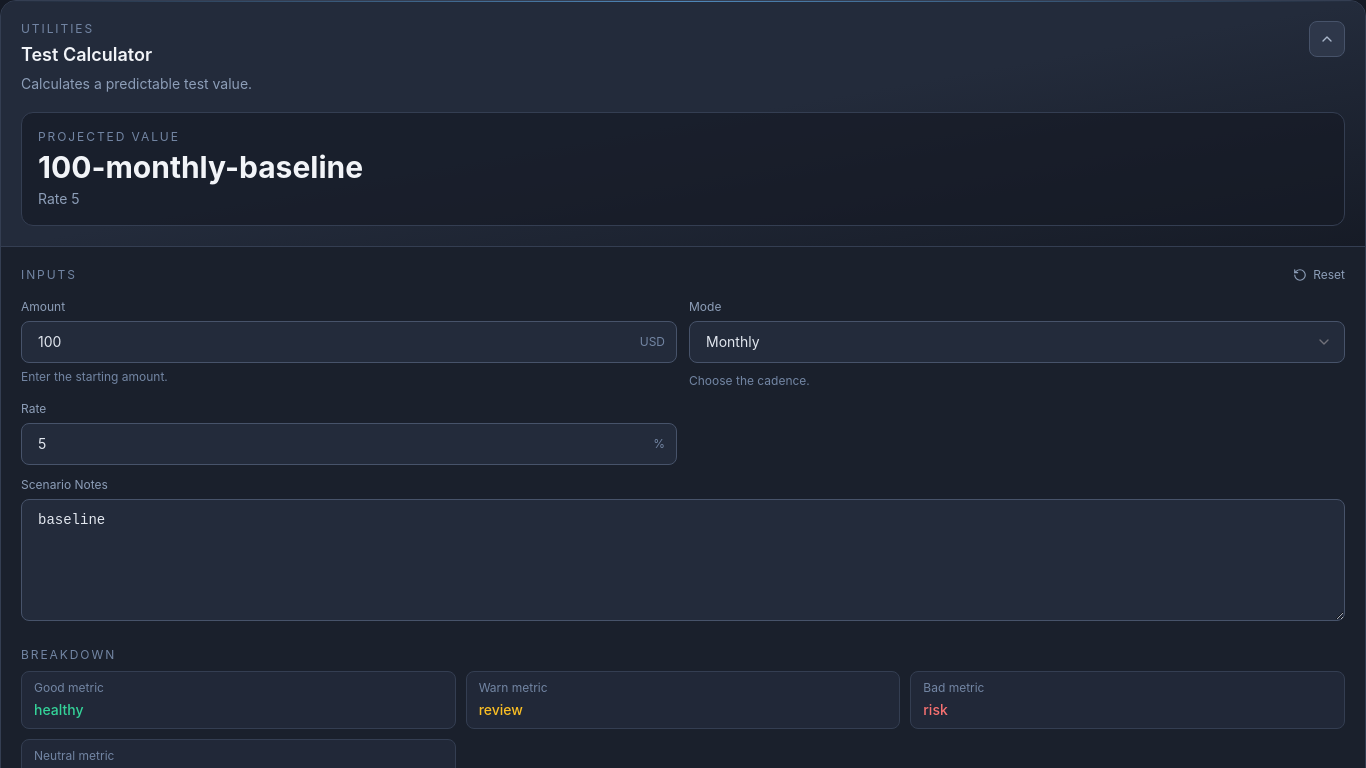
CalculatorCard › resets edited values back to the definition defaults
The image size is (1366, 768).
Replace the text in the number field labelled "Amount" with "400": (349, 342) [21, 321, 677, 363]
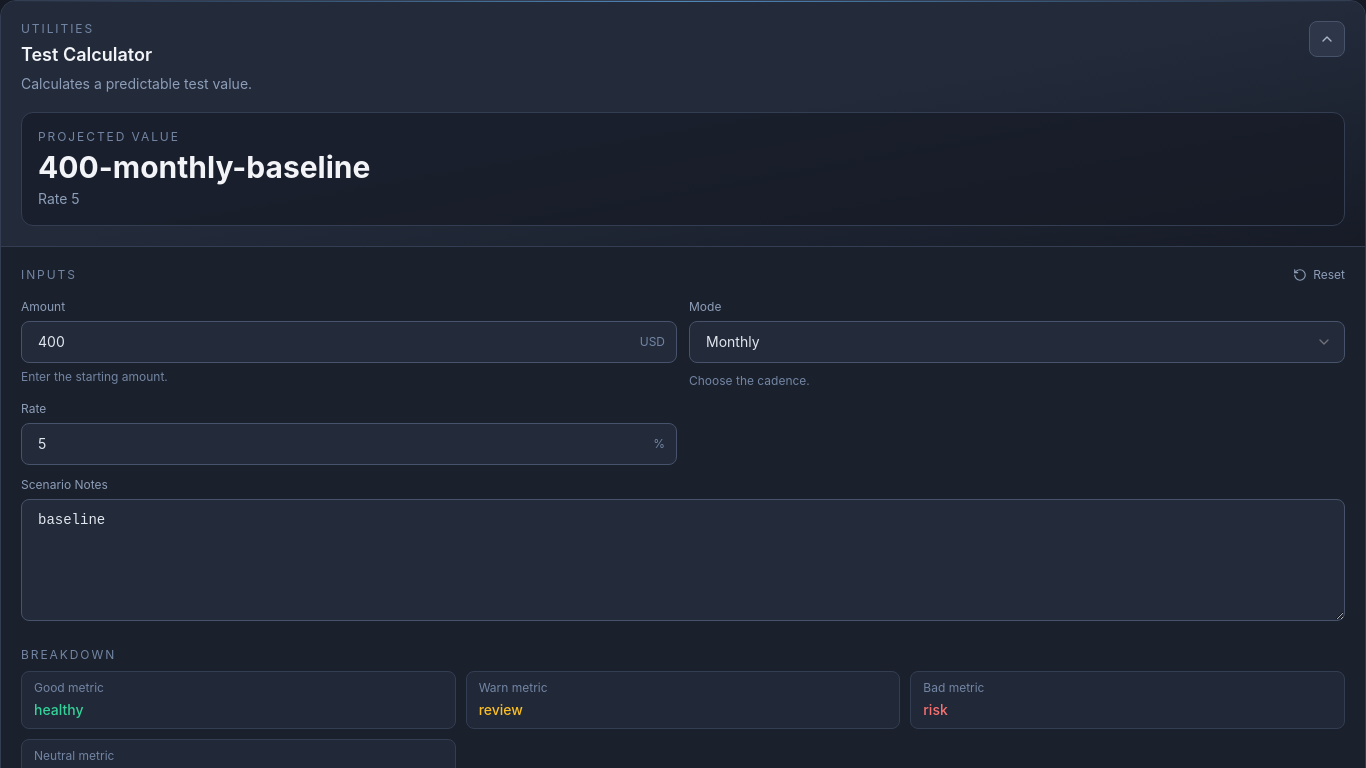
Select "Yearly" in the dropdown labelled "Mode": (1017, 342) [689, 321, 1345, 363]
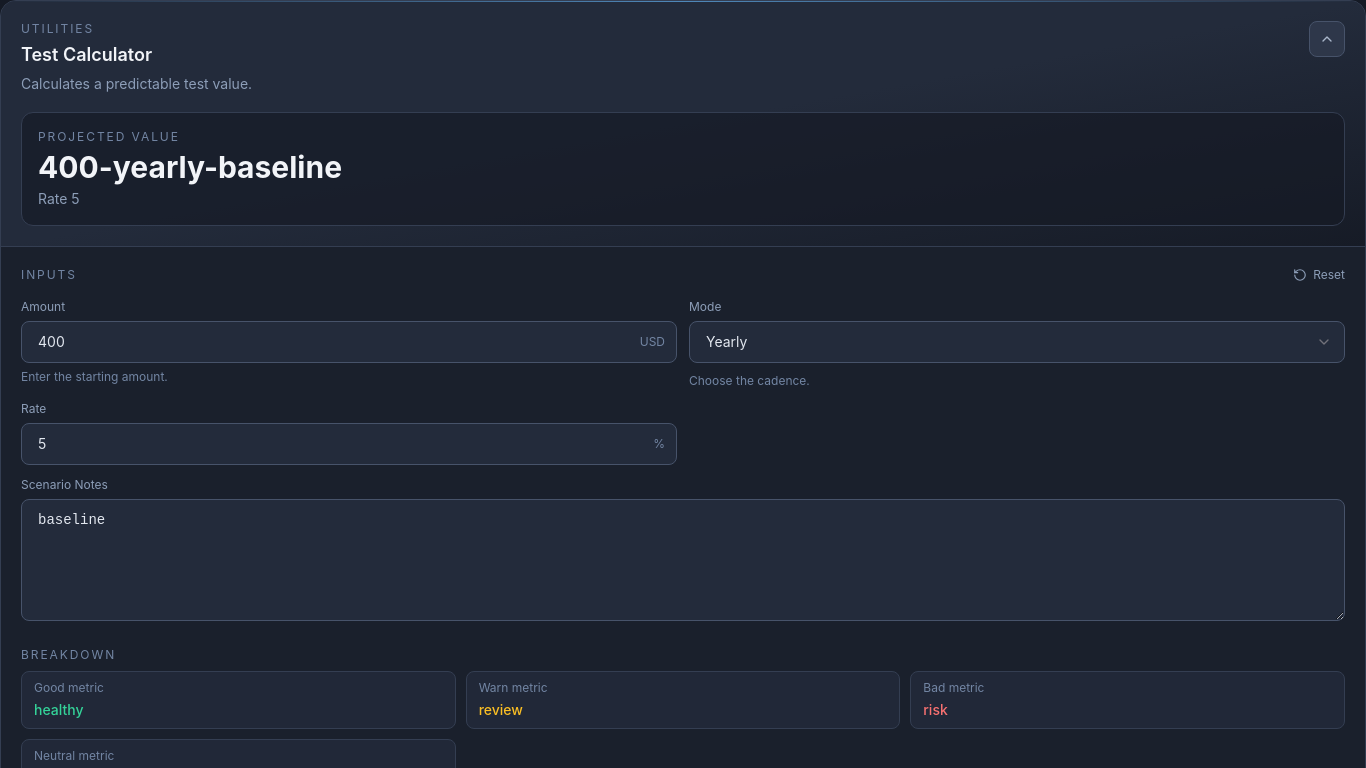
Click the button "Reset": (1319, 275) [1293, 267, 1345, 283]
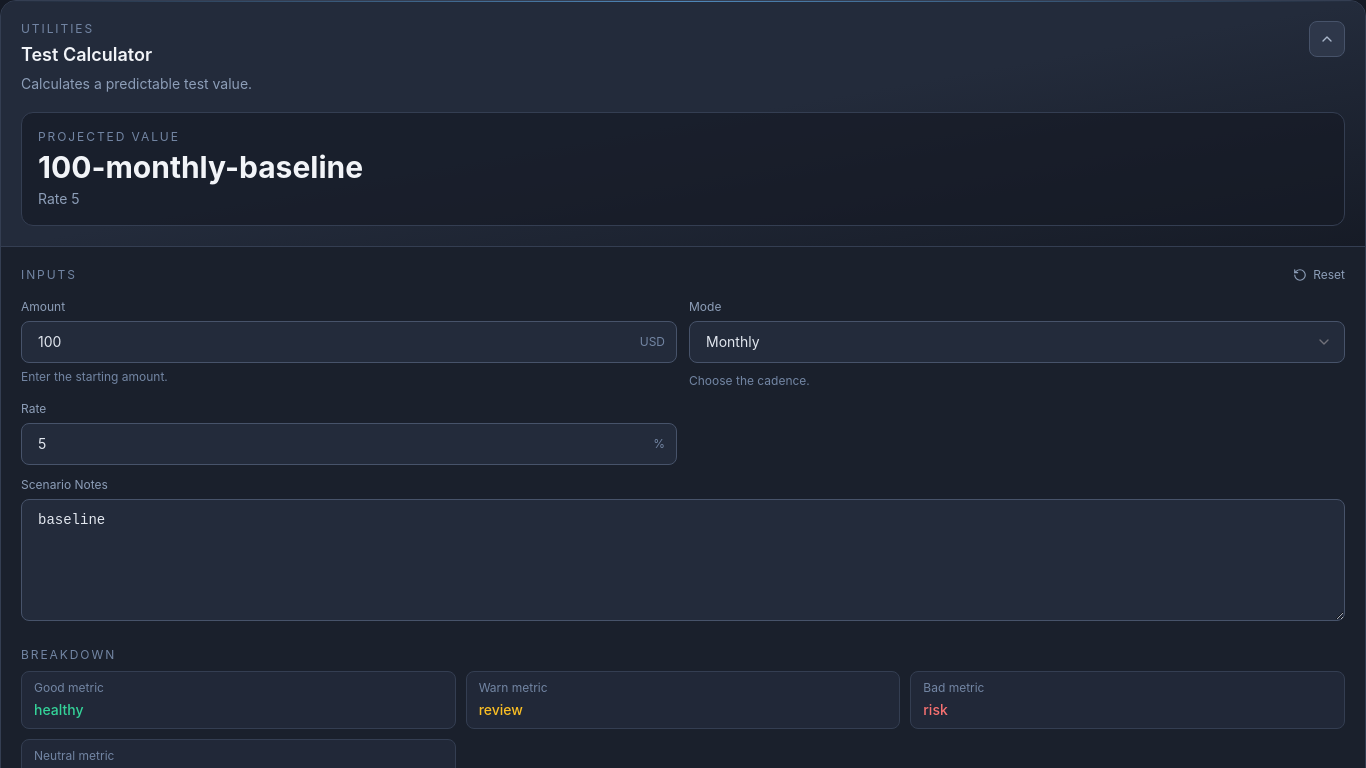
Check: the number field labelled "Amount" holds "100", box [21, 321, 677, 363]
Check: the text "100-monthly-baseline" is shown, box [38, 149, 363, 185]
